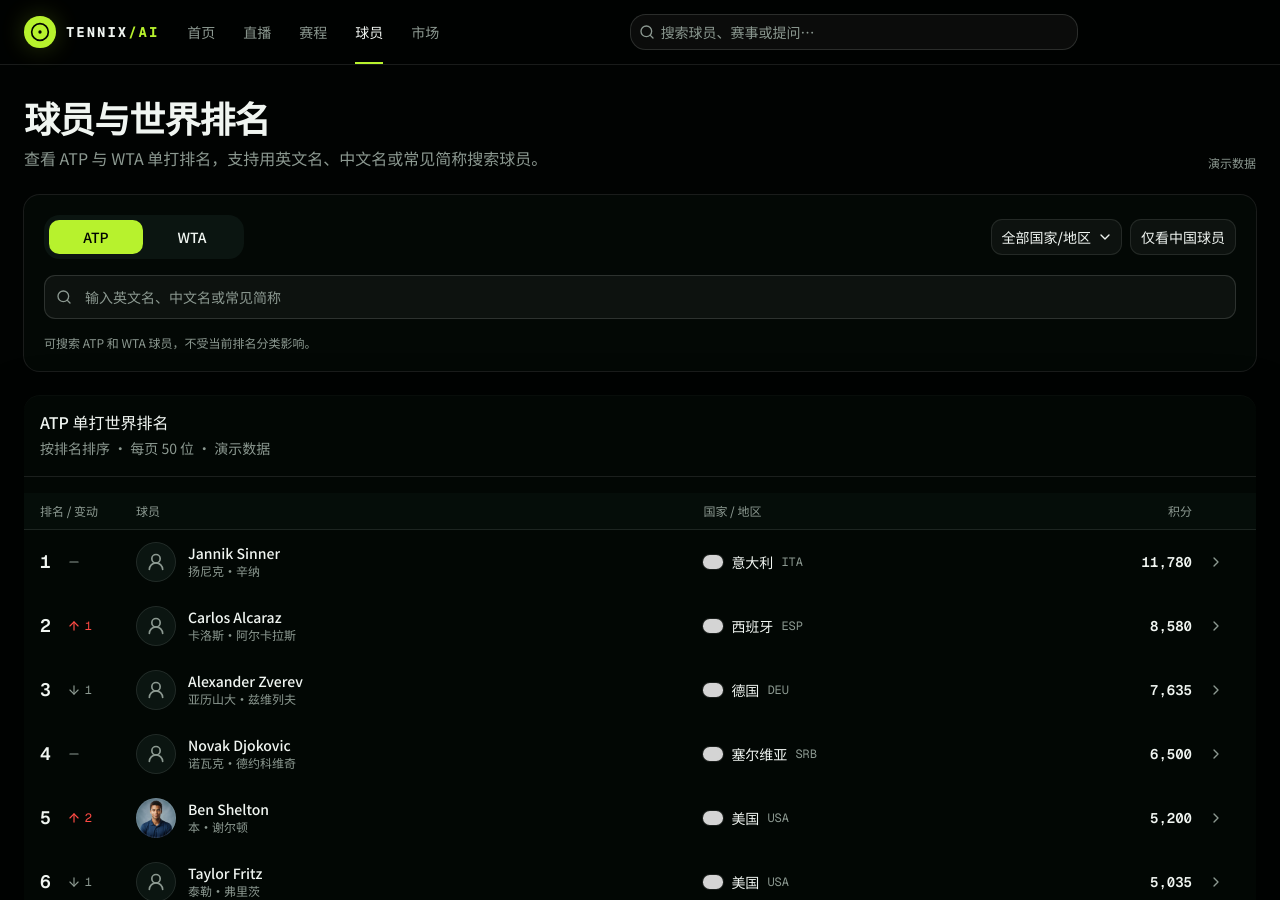
Test case: PlayersPage rankings mode › switches to the WTA tour without leaving the page
Step 1. Click the tab "WTA" → coordinates (192, 237), box [144,219,240,255]
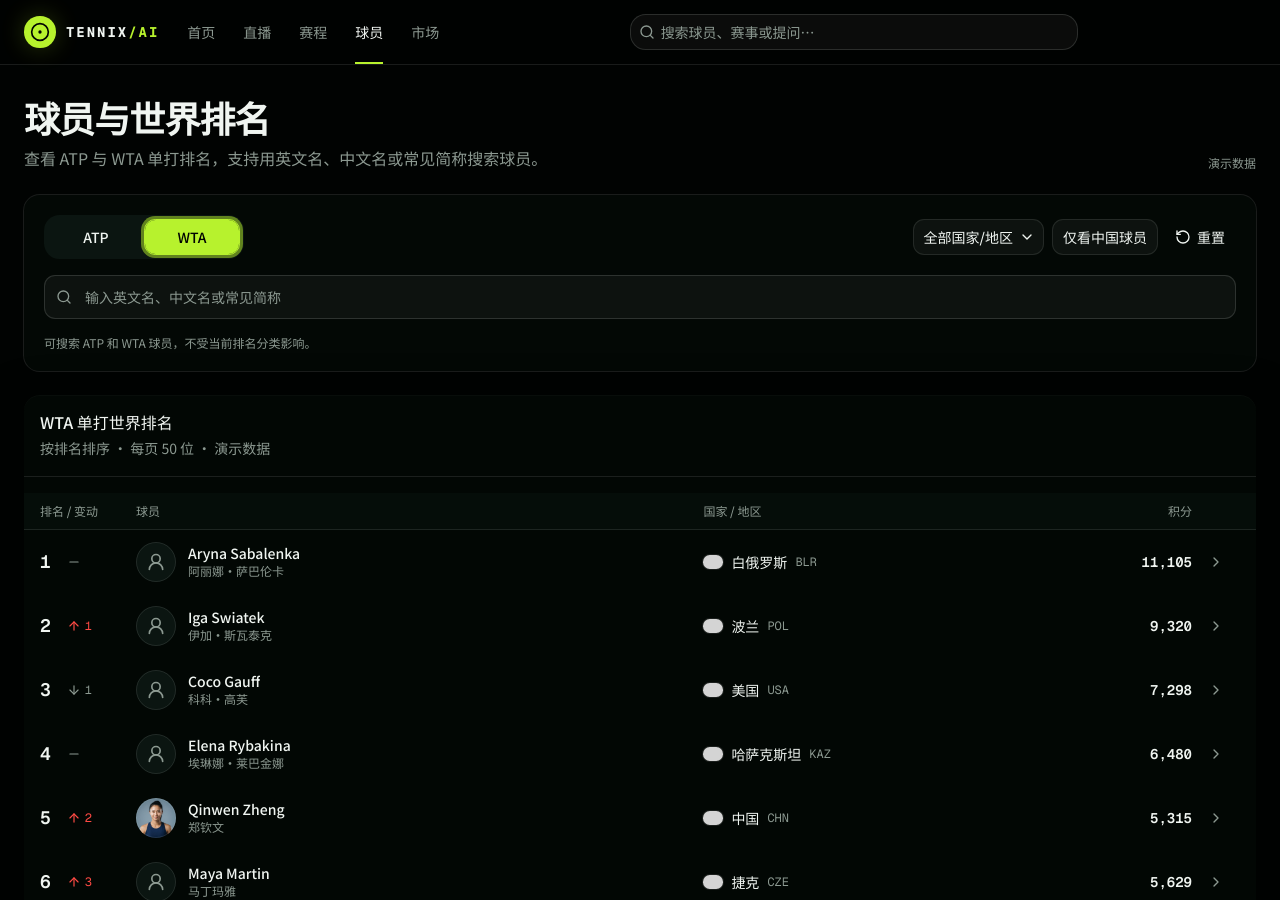
Check: the heading "WTA 单打世界排名" is shown, box [40,410,173,434]
Check: the text "Aryna Sabalenka" is shown, box [188,545,300,562]
Check: the link "Jannik Sinner" is gone
